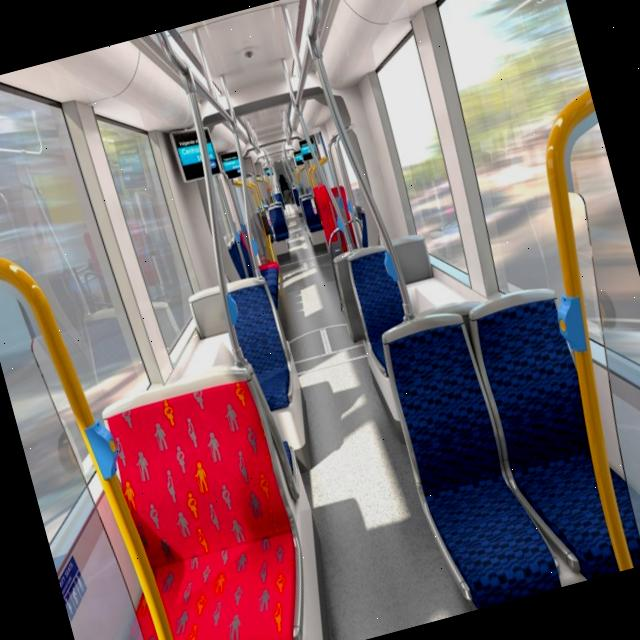empty-seat-frontal: (44, 364, 329, 640), (372, 293, 567, 616), (465, 263, 640, 591)
